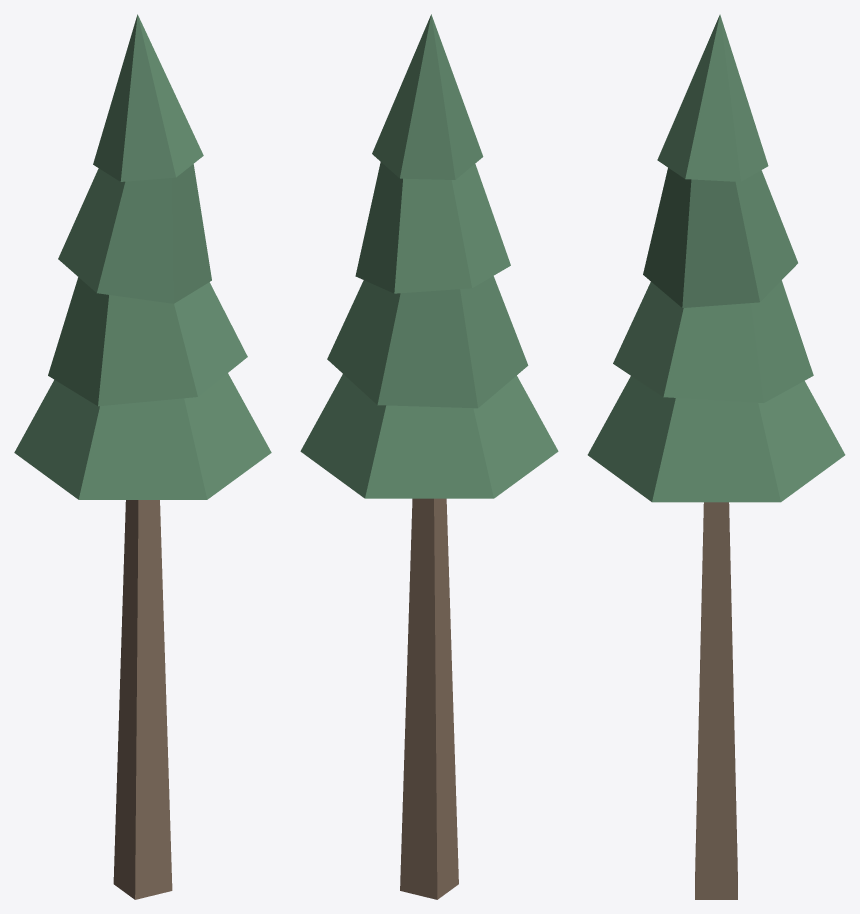
File: srf_tree_pine_b.glb
3 views of the same model, side by side, from view 1: azimuth 30°, elevation 25°; view 2: azimuth 150°, elevation 25°; view 3: azimuth 270°, elevation 25° (orthographic).
Parts seen in each view (by area): view 1: tree_pineTallD; view 2: tree_pineTallD; view 3: tree_pineTallD.
Boxes of the visible parts, bbox=[...] form: tree_pineTallD: bbox=[14, 14, 271, 899]; tree_pineTallD: bbox=[300, 14, 558, 899]; tree_pineTallD: bbox=[587, 14, 845, 899].
Bounding box in the file's own units: 0.4804 × 2.08 × 0.5547.
